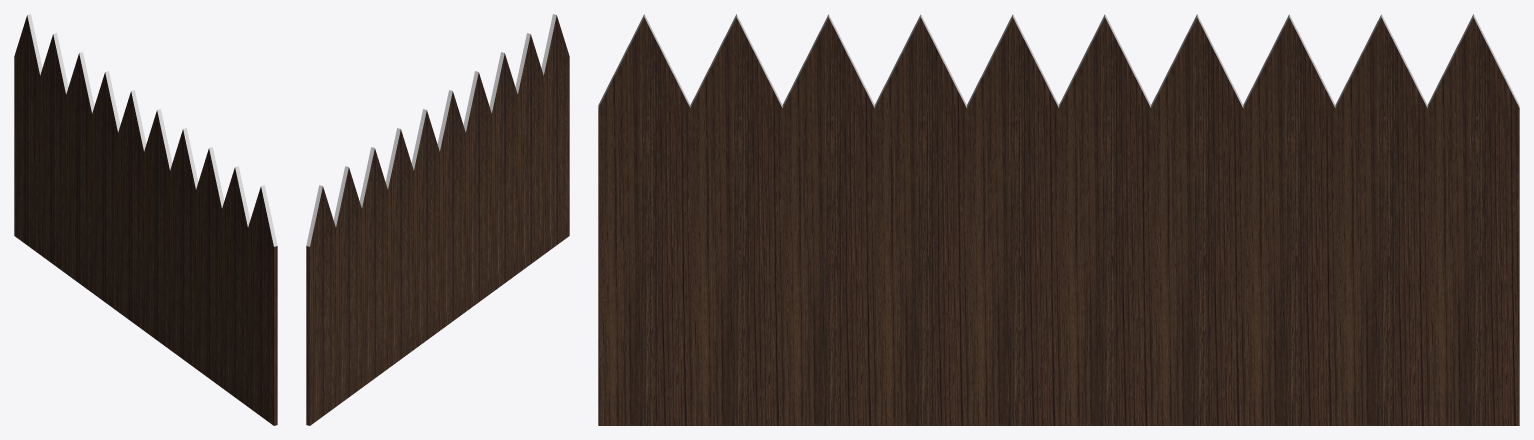
The model's file is fence.fbx.
The picture shows the model from 3 angles, left to right: view 1: azimuth 30°, elevation 25°; view 2: azimuth 150°, elevation 25°; view 3: azimuth 270°, elevation 25°; orthographic projection. The views are drawn at different scales.
Visible parts, largest first — view 1: Cube; view 2: Cube; view 3: Cube.
Boxes of the visible parts, <box> form: Cube: <box>14,14,277,425</box>; Cube: <box>306,14,569,425</box>; Cube: <box>598,14,1519,425</box>.
Size of the model in its own units: 16.87 by 979 by 2000.
